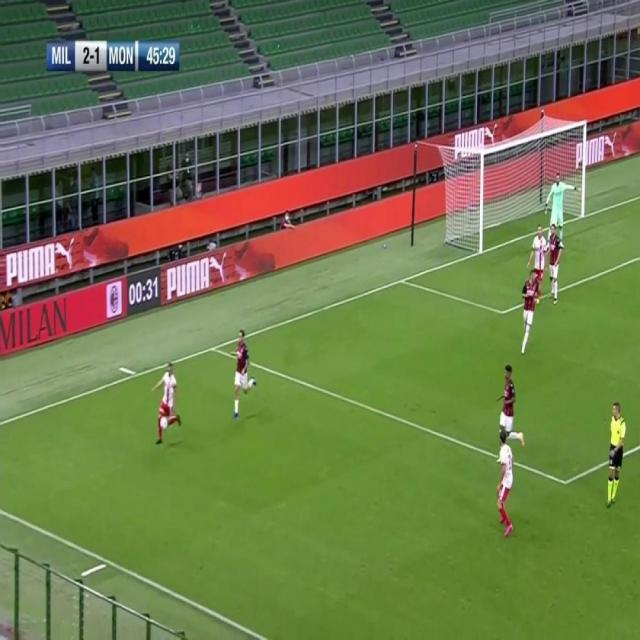ball: (160, 415, 169, 430)
goalkeeper: (544, 173, 582, 226)
player: (495, 430, 519, 542), (153, 361, 182, 447), (495, 364, 525, 445), (231, 328, 257, 419), (517, 269, 540, 356), (547, 224, 563, 304), (527, 223, 547, 269)
referee: (604, 401, 628, 509)
